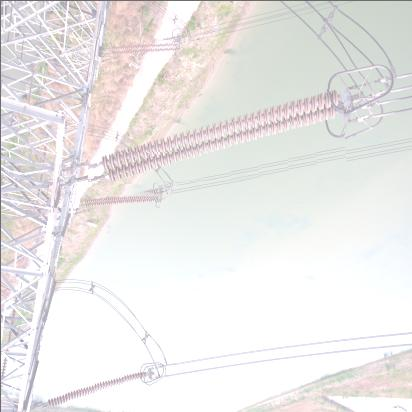insulator: (87, 91, 346, 183), (41, 372, 150, 408), (80, 184, 162, 218), (103, 32, 179, 66)
